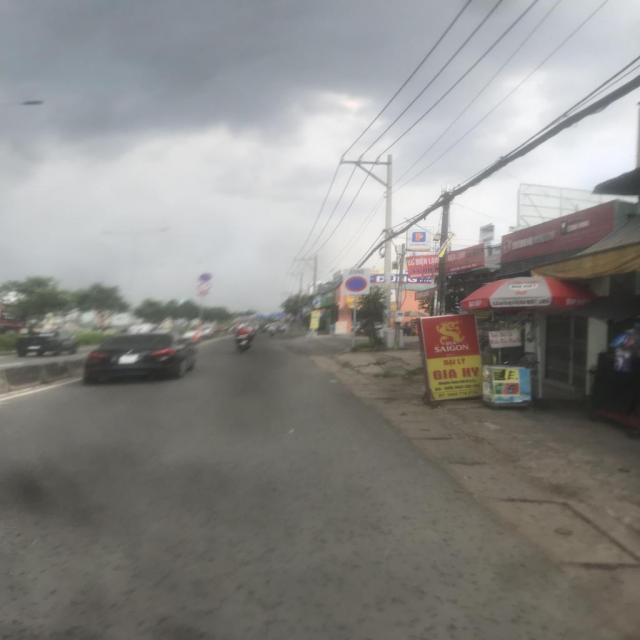cam_do_xe: (344, 276, 368, 292)
